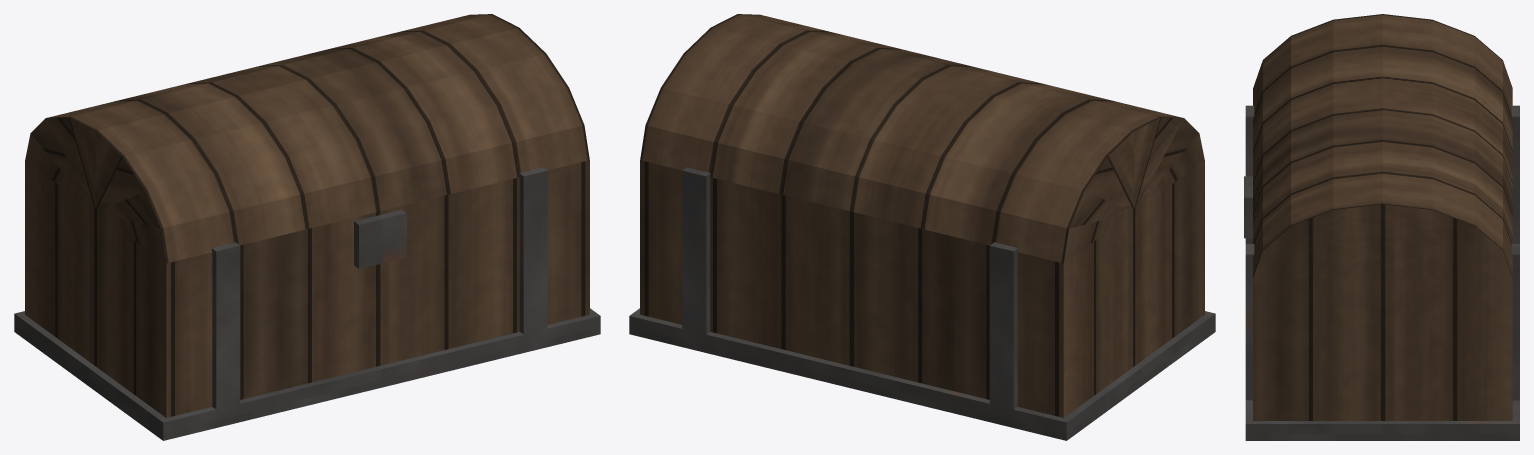
The model's file is Chest_Wood.gltf.
3 renders of one model, left to right at view 1: azimuth 30°, elevation 25°; view 2: azimuth 150°, elevation 25°; view 3: azimuth 270°, elevation 25°, orthographic. The views are drawn at different scales.
Parts seen in each view (by area): view 1: Chest_Wood; view 2: Chest_Wood; view 3: Chest_Wood.
Boxes of the visible parts, <box> form: Chest_Wood: <box>14,14,600,440</box>; Chest_Wood: <box>629,14,1215,440</box>; Chest_Wood: <box>1244,14,1519,440</box>.
Size of the model in its own units: 1.28 by 0.71 by 0.76.
Materials: 2 (2 with a texture image).
